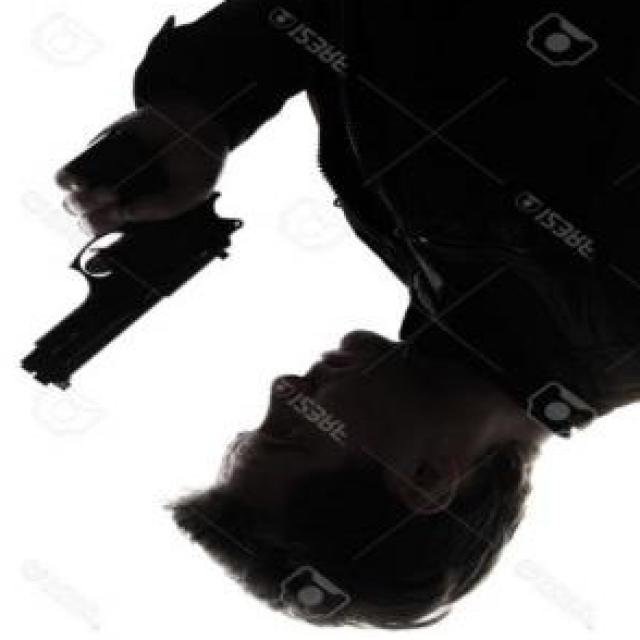pistol: (7, 128, 252, 392)
